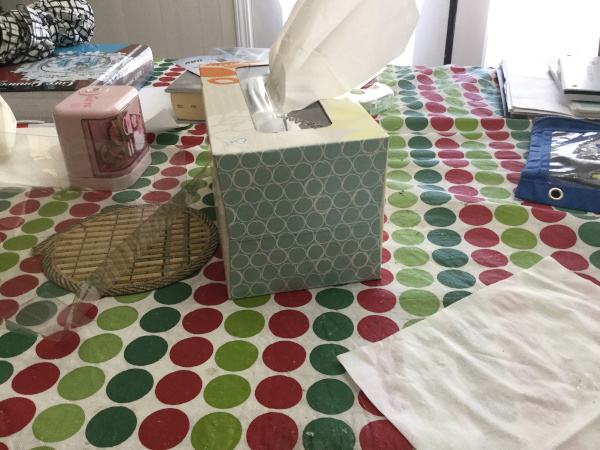box: (195, 2, 413, 294)
